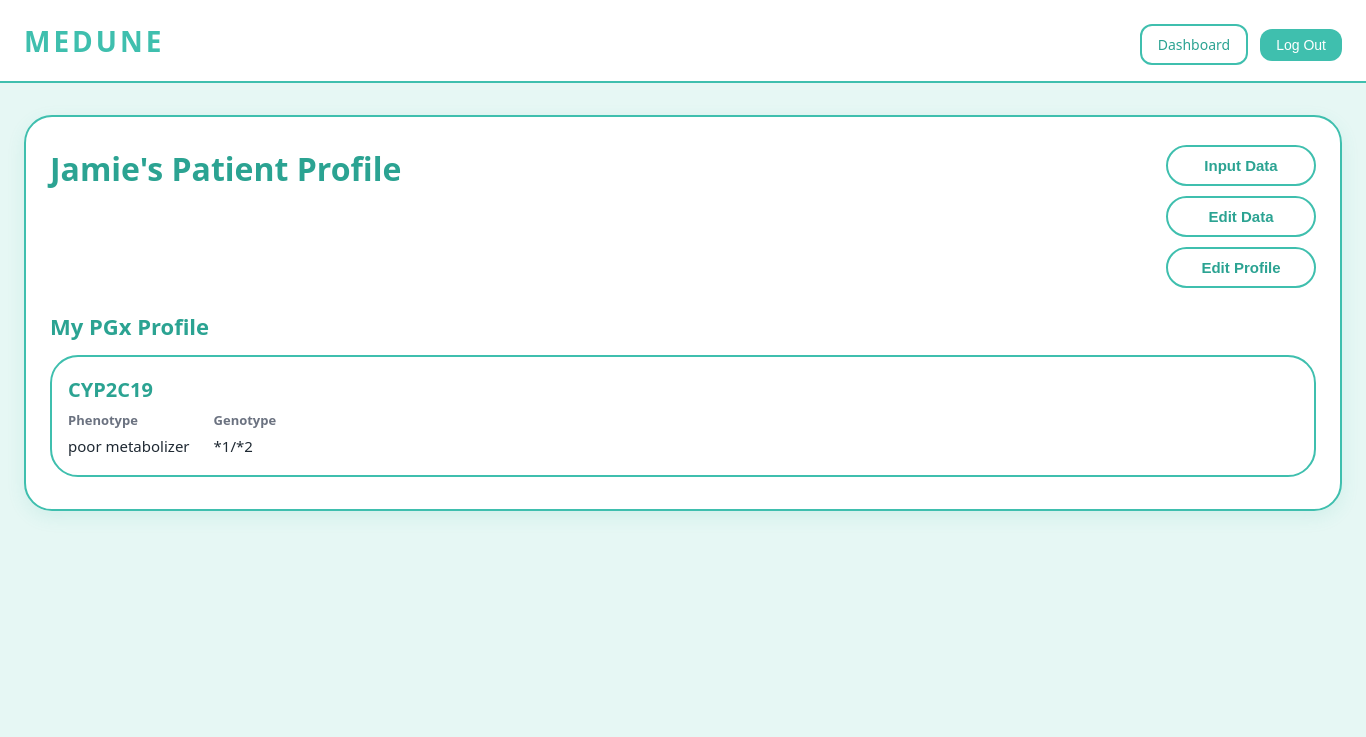
Test: Profile › lets users edit a saved gene result from the existing profile cards
Step 1. Click the button "Edit Data" → (1241, 216), box [1166, 196, 1316, 237]
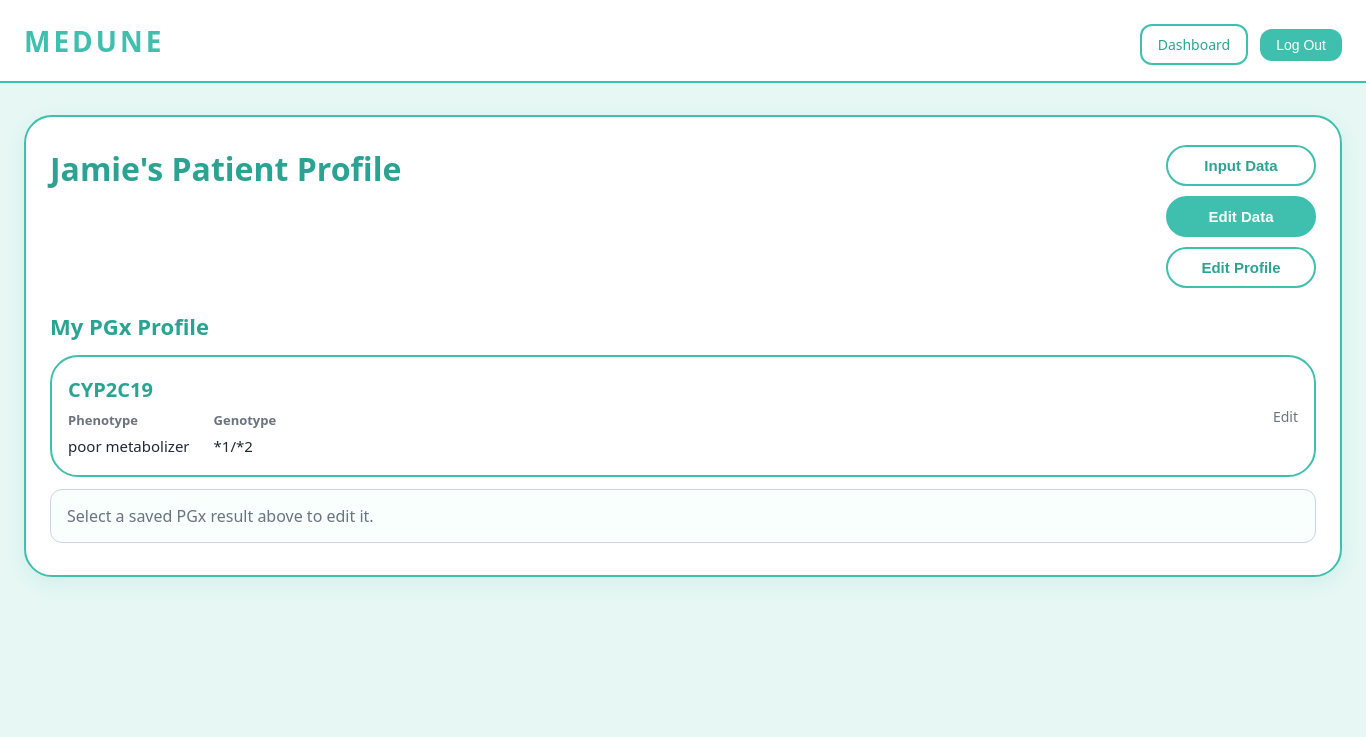
Step 2. Click the button "edit cyp2c19" → (110, 390), box [68, 375, 1298, 457]
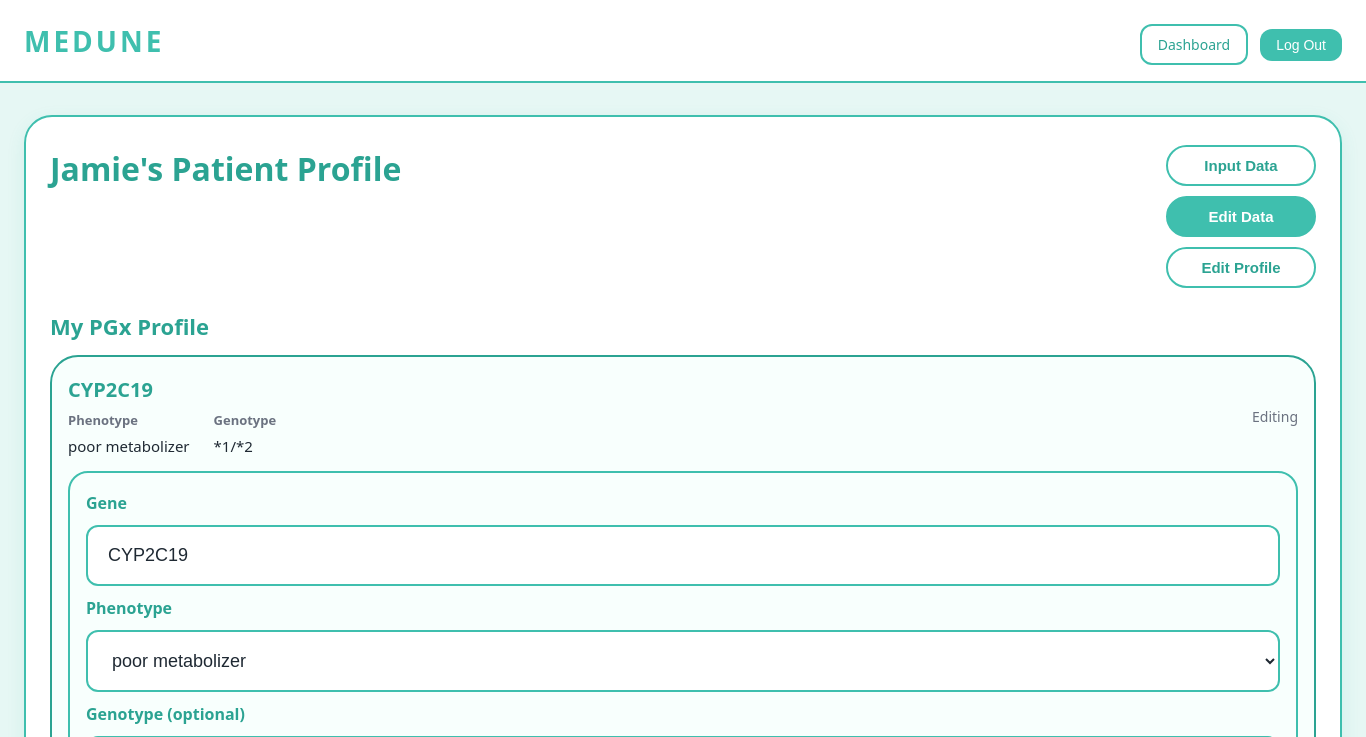
Expected: the field showing "CYP2C19" is shown, [86, 525, 1280, 586]
